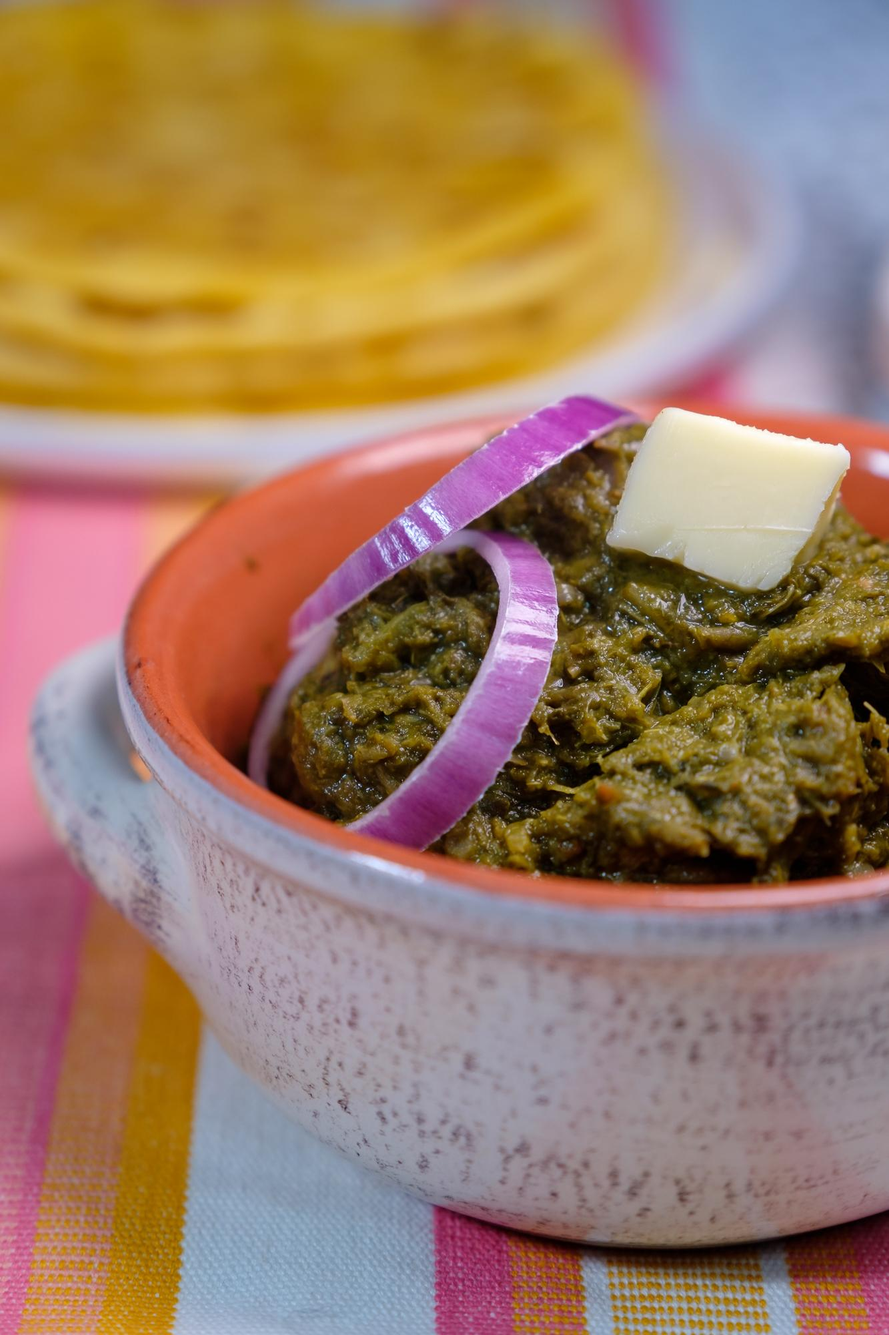saag: (302, 425, 889, 881)
